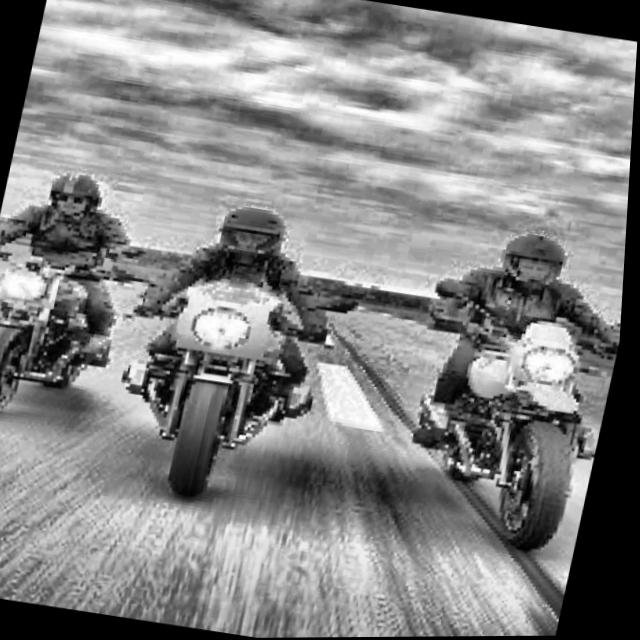motorcycle: (82, 245, 361, 517), (383, 265, 627, 563), (0, 221, 134, 434)
